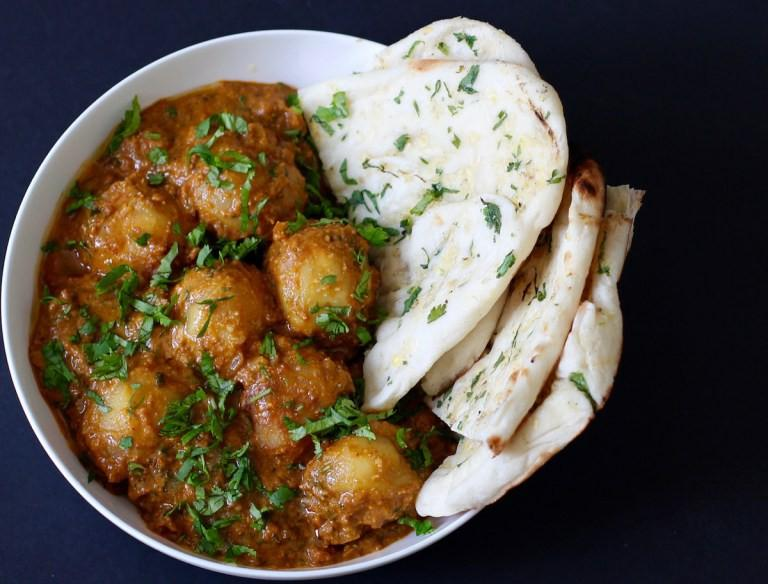DumAloo: (32, 76, 440, 568)
